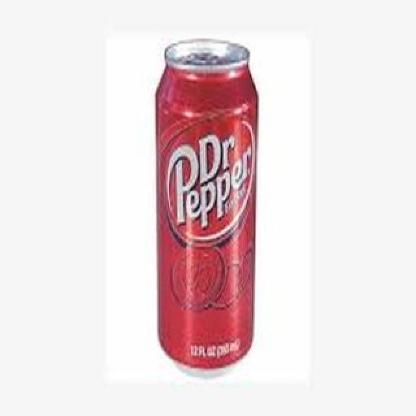Can: (150, 38, 260, 375)
